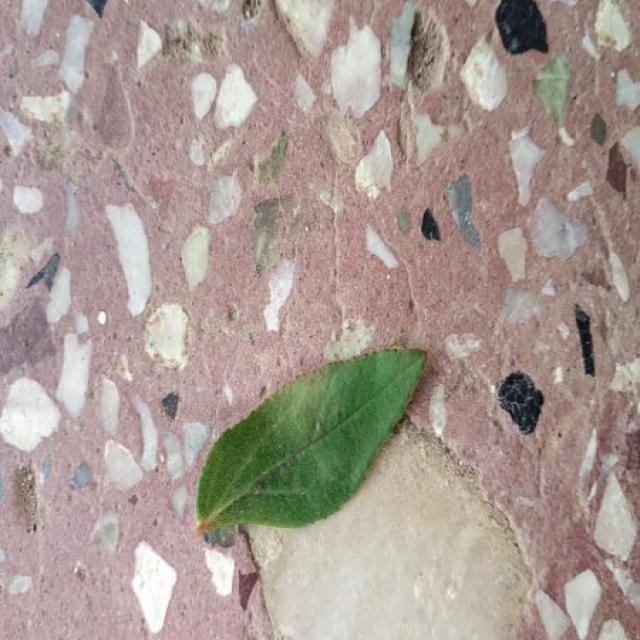Astma_weed: (197, 349, 425, 533)
